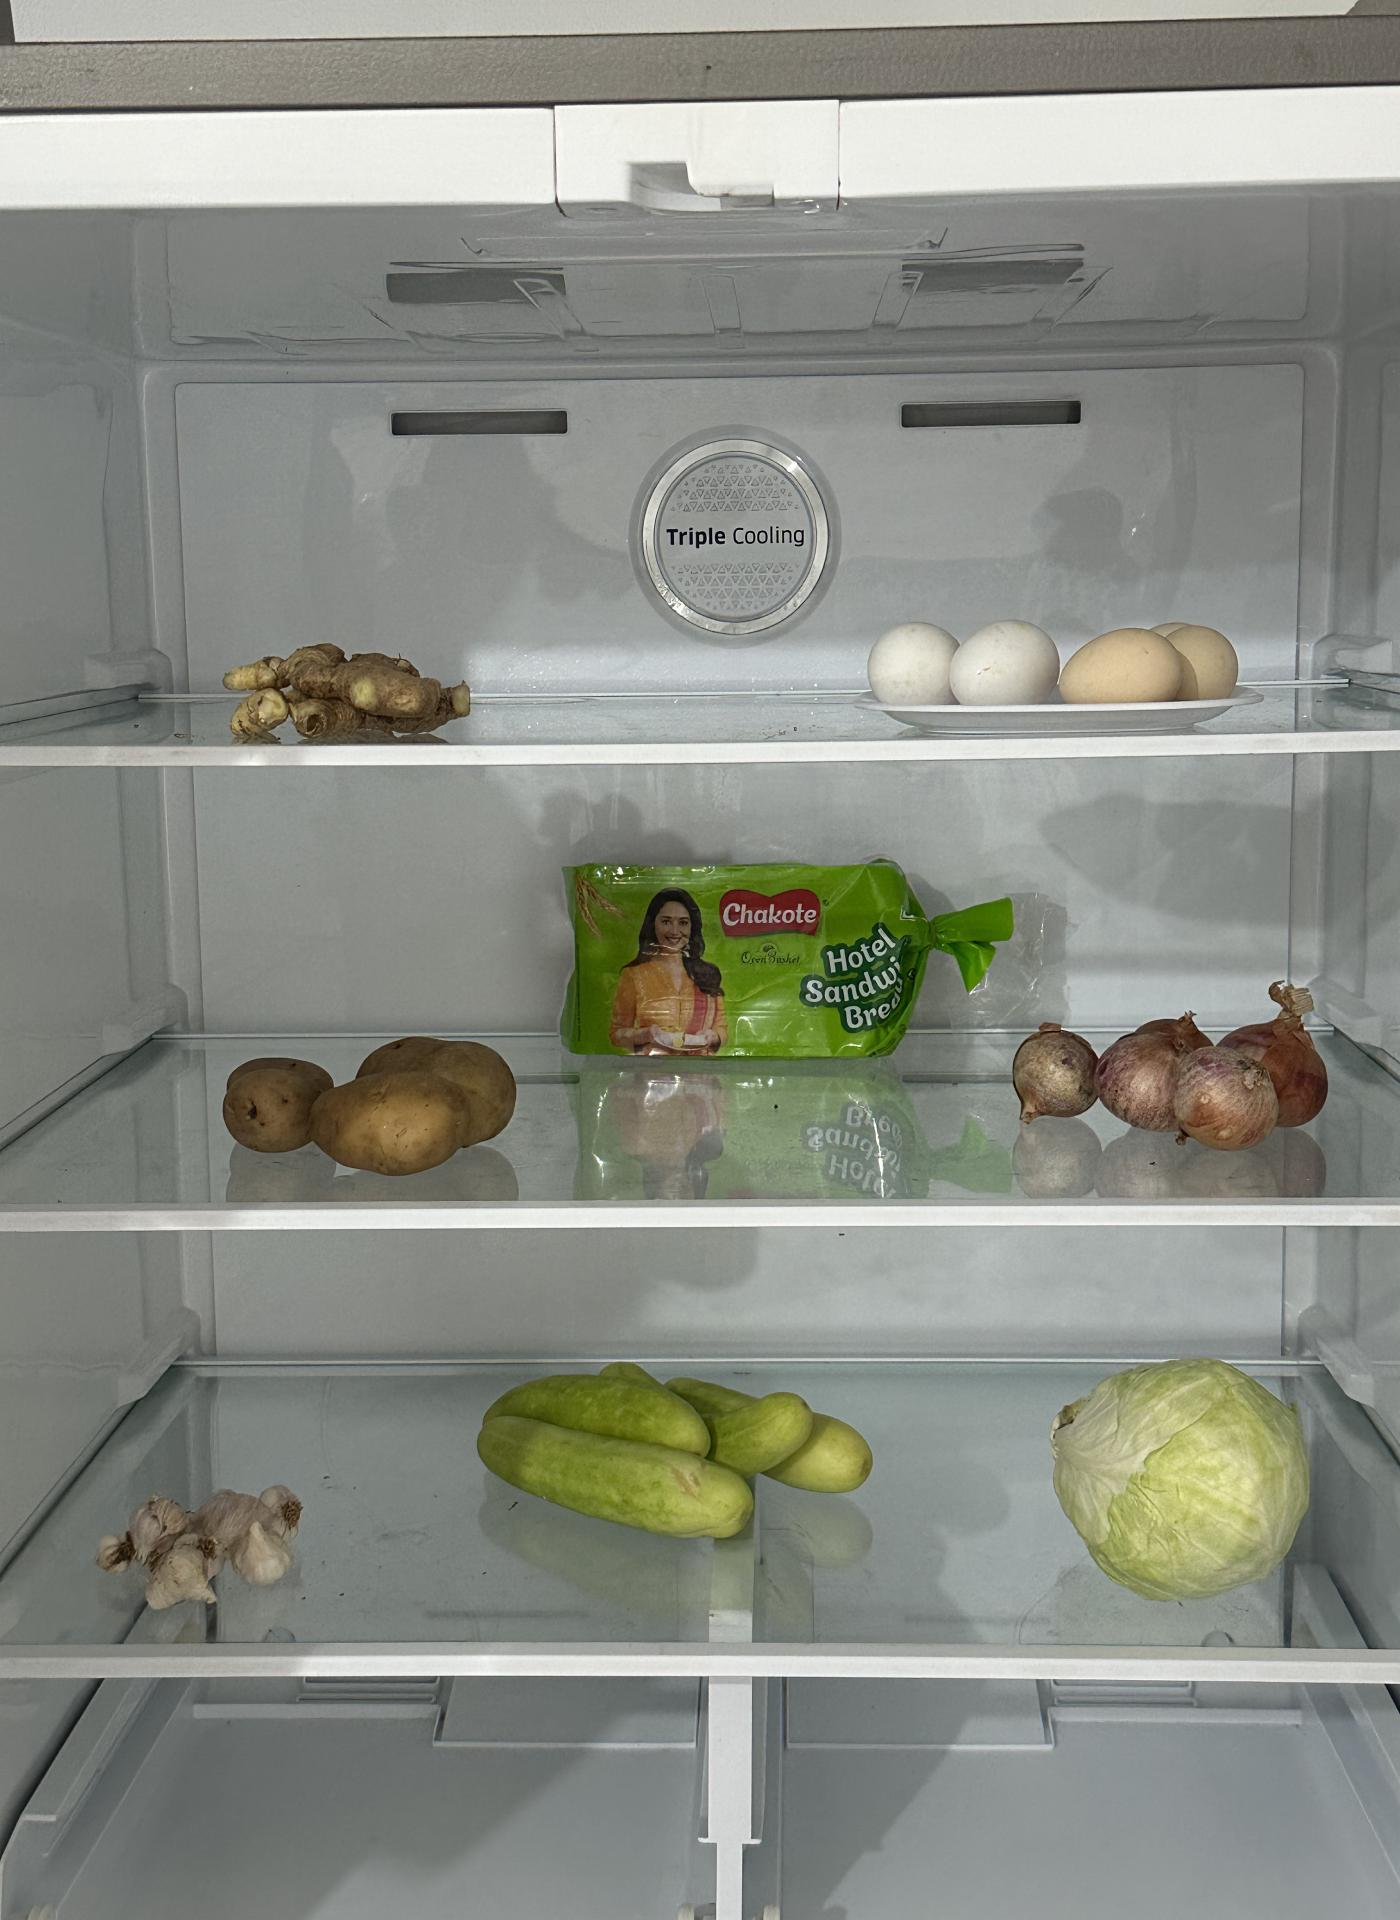bread: (561, 848, 959, 1060)
cabbage: (1054, 1354, 1315, 1602)
cucumber: (479, 1355, 872, 1541)
egg: (863, 611, 1245, 714)
garlic: (100, 1485, 315, 1608)
ginger: (224, 634, 474, 742)
onion: (1009, 1005, 1340, 1148)
potato: (222, 1030, 519, 1172)
